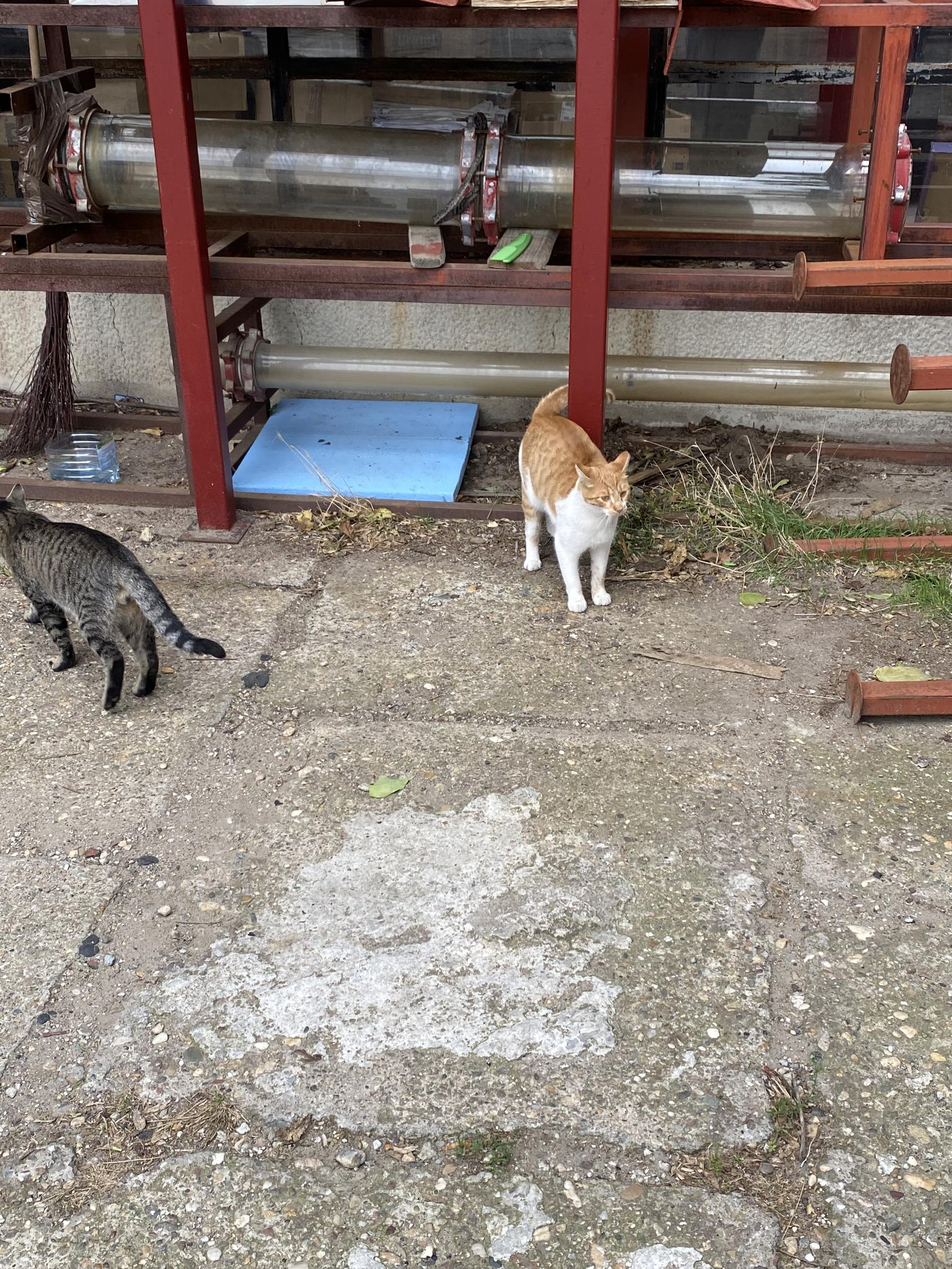macka: (0, 481, 227, 708), (518, 381, 630, 614)
